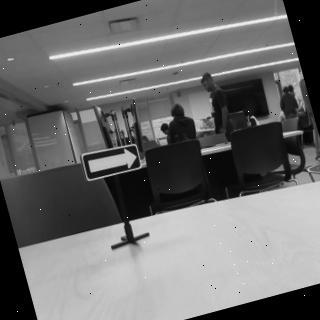sign_oneway_right: (80, 139, 146, 186)
